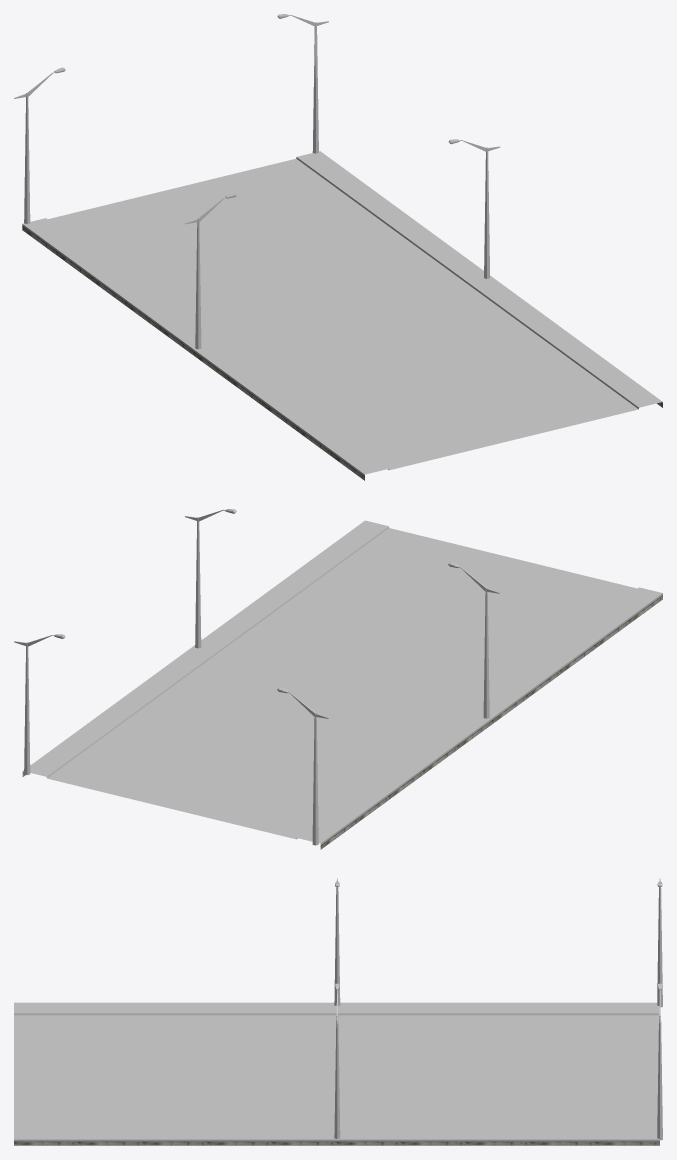
Rendered from Big_Road_Short.FBX.
3 renders of one model, top to bottom at view 1: azimuth 30°, elevation 25°; view 2: azimuth 150°, elevation 25°; view 3: azimuth 270°, elevation 25°, orthographic. The views are drawn at different scales.
Parts seen in each view (by area): view 1: Big_Road_Short, City094; view 2: Big_Road_Short, City094; view 3: Big_Road_Short, City094.
Boxes of the visible parts, x1,y1,x2,y2 form: Big_Road_Short: [22, 151, 662, 480]; City094: [14, 14, 500, 349]; Big_Road_Short: [22, 520, 662, 849]; City094: [14, 509, 499, 845]; Big_Road_Short: [14, 1002, 659, 1145]; City094: [334, 878, 662, 1140].
Size of the model in its own units: 2394 by 1103 by 4535.
